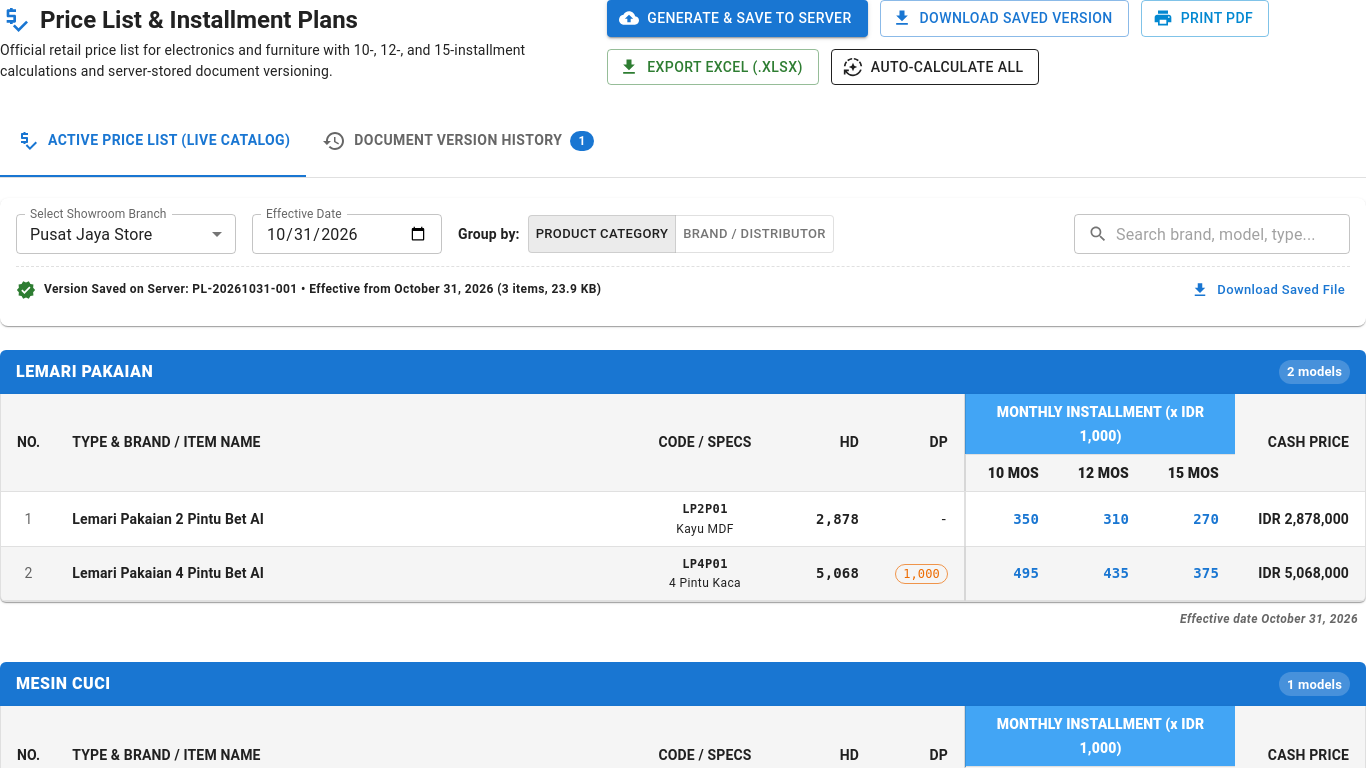
Test: PriceListPage › filters items when search input changes
This screenshot has width=1366, height=768.
In the field with placeholder "Search brand, model, type...": (1233, 234) [1116,214,1350,254], type "Midea"
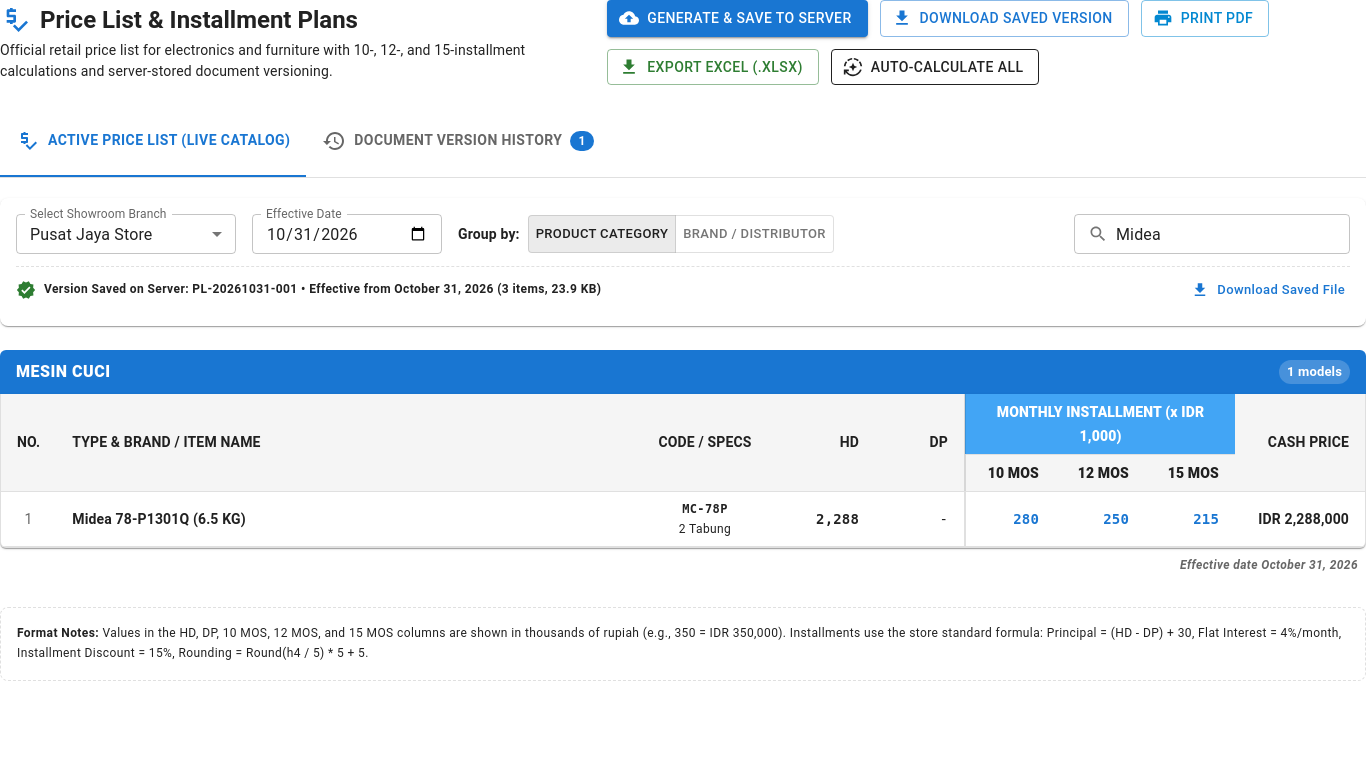
Expected: the text "Midea 78-P1301Q (6.5 KG)" is shown, [72,511,246,527]
Expected: the text "Lemari Pakaian 2 Pintu Bet AI" is gone
